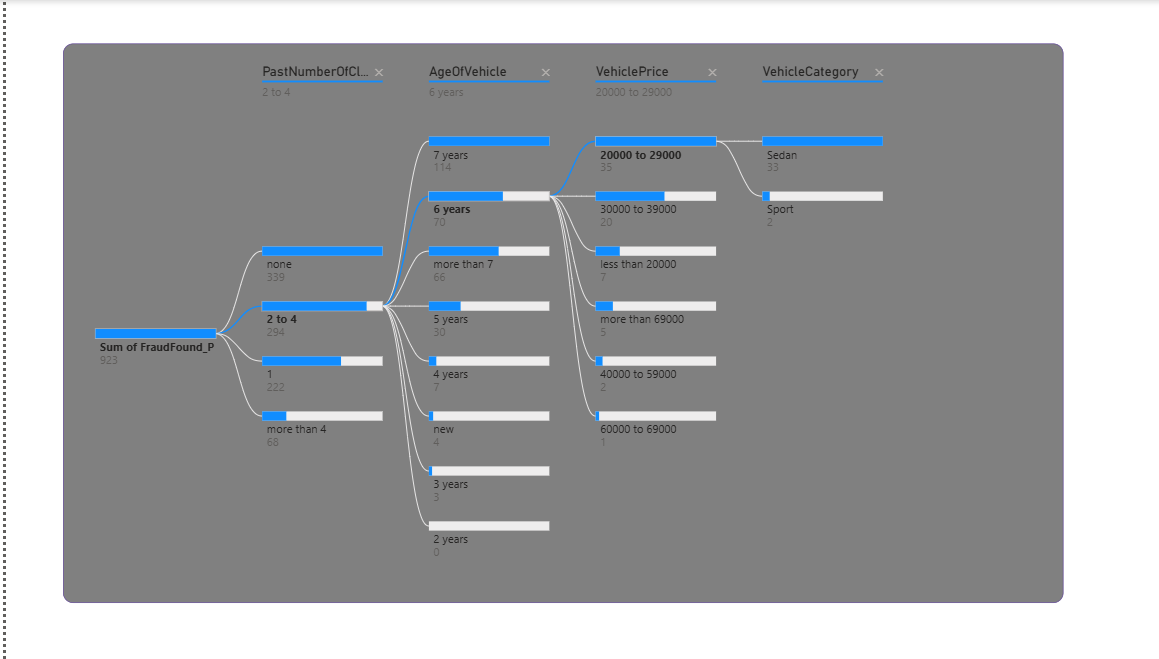

The page's visual inventory and layout, read from the dashboard file:
{"tool":"powerbi","page":{"name":"Fraud Pattern Discovery","canvas":[1280,720],"ordinal":2},"visuals":[{"type":"decompositionTreeVisual","fields":{"Analyze":["Sum(Fraud_Car_Data.FraudFound_P)"],"ExplainBy":["Fraud_Car_Data.PastNumberOfClaims","Fraud_Car_Data.AgeOfVehicle","Fraud_Car_Data.VehiclePrice","Fraud_Car_Data.VehicleCategory"]},"box":[61.5,47,1080,604],"z":0}]}

Visuals, with their boxes in screenshot pixels (x1, y1, x2, y2), scaled from the page's 1280x720 canvas onto the 1159x659 screenshot:
decompositionTreeVisual - Sum(Fraud_Car_Data.FraudFound_P) x Fraud_Car_Data.PastNumberOfClaims: [x1=56, y1=43, x2=1034, y2=596]
